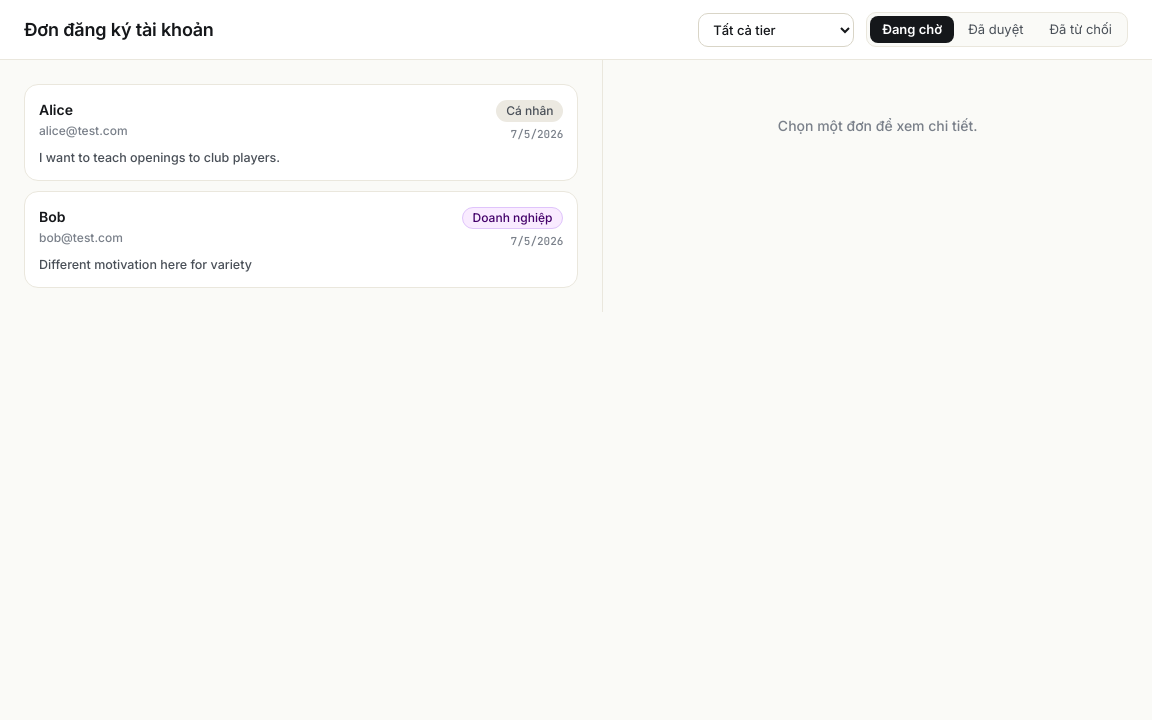
Test: AdminCreatorApplicationsPage › detail pane › shows applicant info, motivation, experience and sample URL when selected
Click the button with test id "application-row-app-1" at (56, 110), box [24,84,578,181]
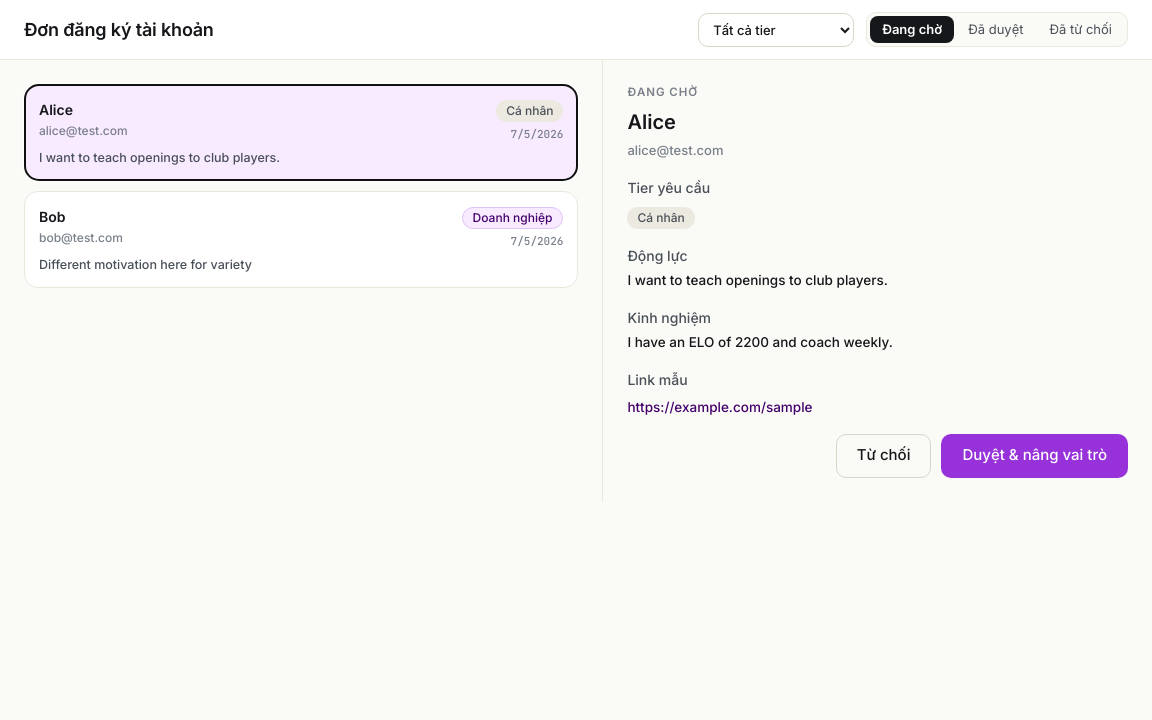
Check: the element with test id "application-detail" shows "Alice", box [627,110,676,134]
Check: the element with test id "application-detail" shows "alice@test.com", box [627,142,723,158]
Check: the element with test id "application-detail" shows "teach openings", box [627,272,888,288]
